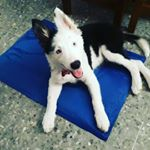puppy: (30, 7, 148, 137)
